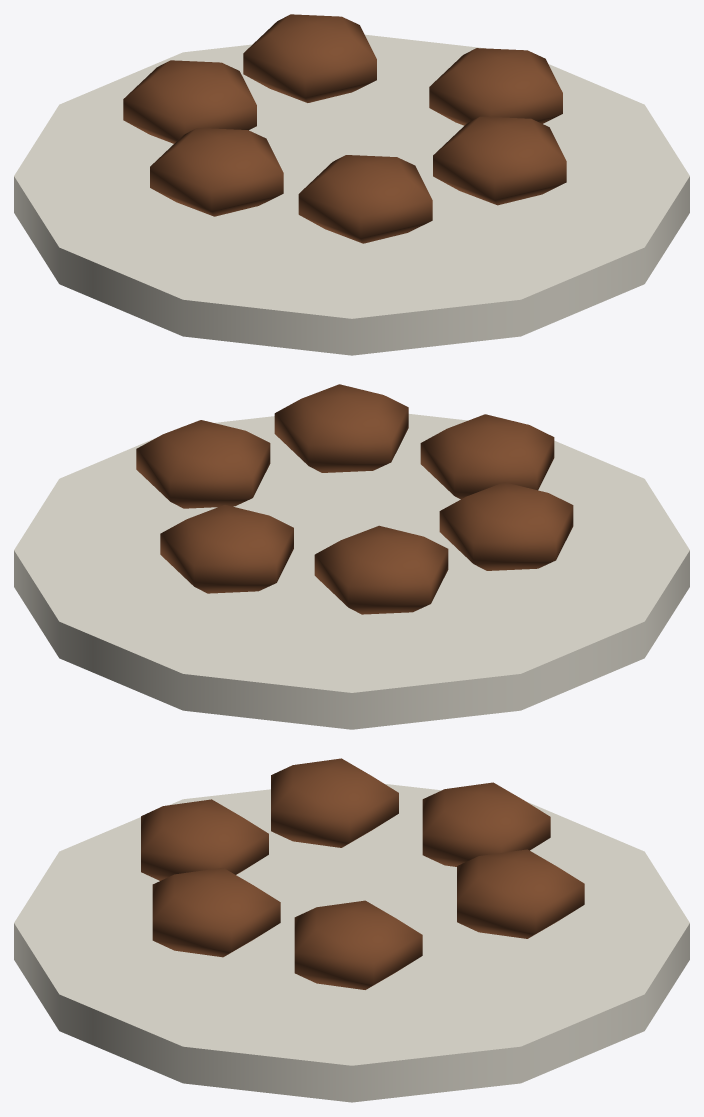
File: good-shroomfry.glb
The picture shows the model from 3 angles, top to bottom: view 1: azimuth 30°, elevation 25°; view 2: azimuth 150°, elevation 25°; view 3: azimuth 270°, elevation 25°; orthographic projection.
Parts seen in each view (by area): view 1: #e4e0d4, #7a4a2c_noshadow; view 2: #e4e0d4, #7a4a2c_noshadow; view 3: #e4e0d4, #7a4a2c_noshadow.
Part boxes in pixels (bbox=[...]): #e4e0d4: bbox=[14, 34, 689, 355]; #7a4a2c_noshadow: bbox=[123, 14, 566, 243]; #e4e0d4: bbox=[14, 414, 689, 729]; #7a4a2c_noshadow: bbox=[136, 384, 573, 614]; #e4e0d4: bbox=[14, 784, 689, 1102]; #7a4a2c_noshadow: bbox=[141, 758, 584, 989].
Bounding box in the file's own units: 0.2 × 0.039 × 0.2.
